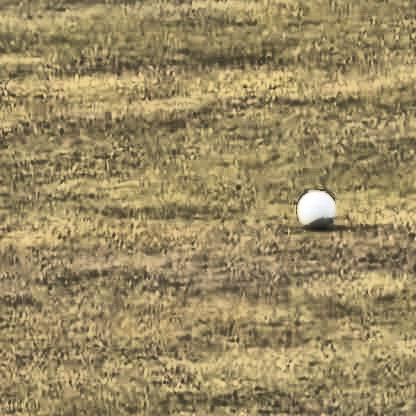golfball: (293, 188, 335, 227)
